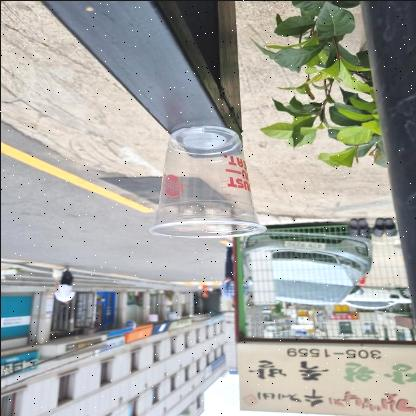Others: (142, 120, 270, 242)
